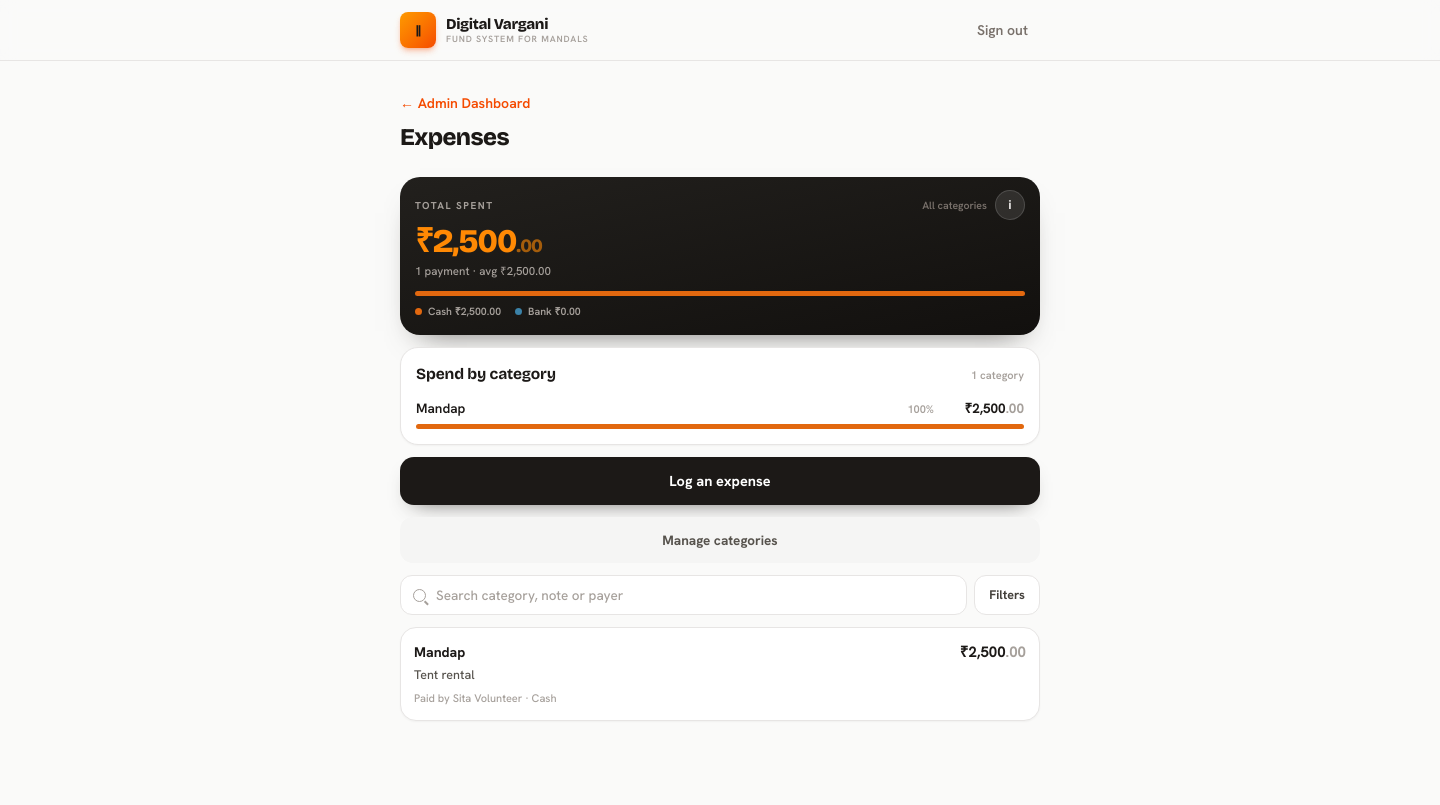
Test case: ExpensesContent — the Expenses tab › keeps the submit inert until a category, an amount and a source of funds are all chosen
The image size is (1440, 805).
Click the button "Log an expense" at coordinates (720, 481), box [400,457,1040,505]
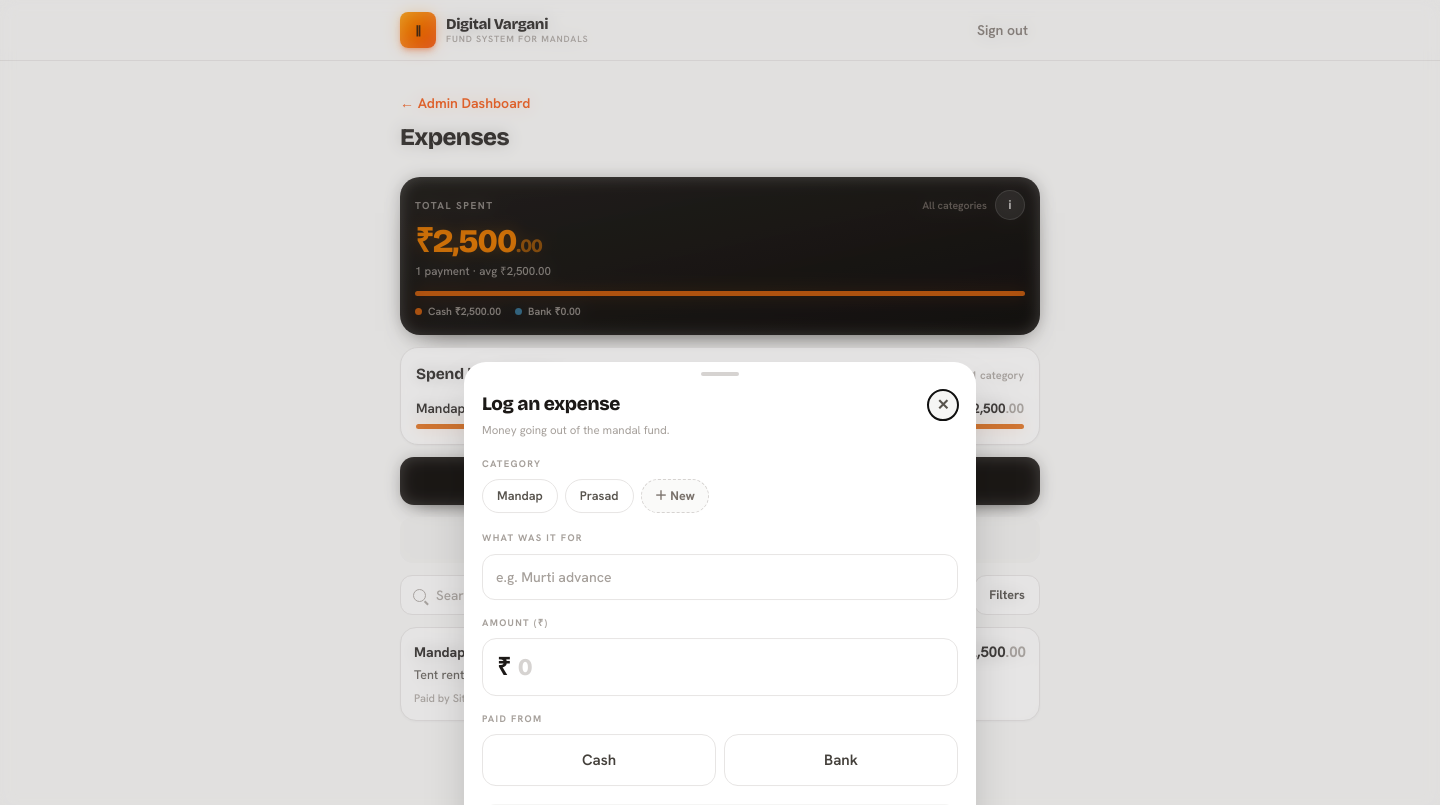
Click the button "Mandap" at coordinates (520, 496), box [482,479,558,513]
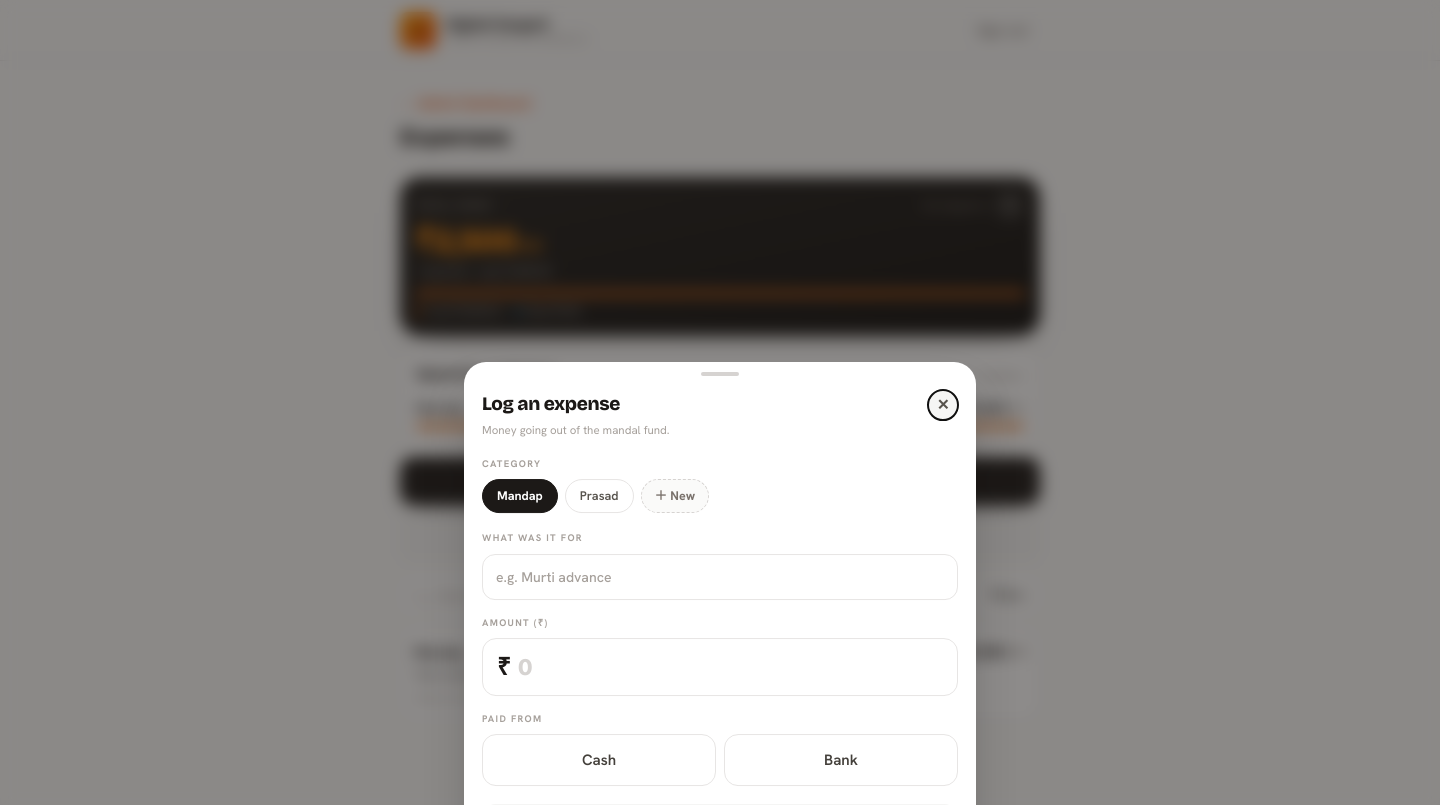
Type "100" into the number field labelled "Amount (₹)" at coordinates (730, 667), box [518,651,943,683]
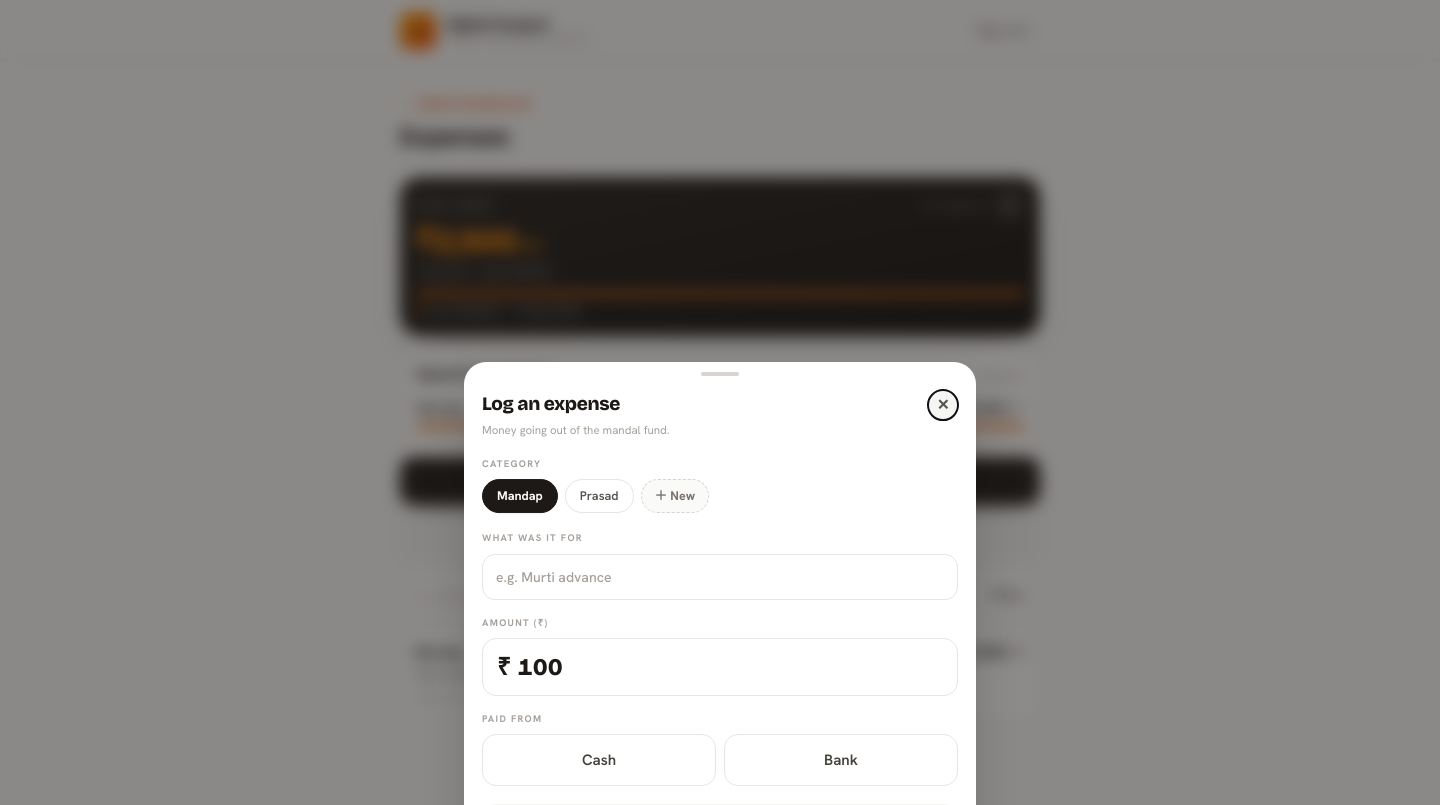
Click the button "Bank" at coordinates (841, 760), box [724,734,958,786]
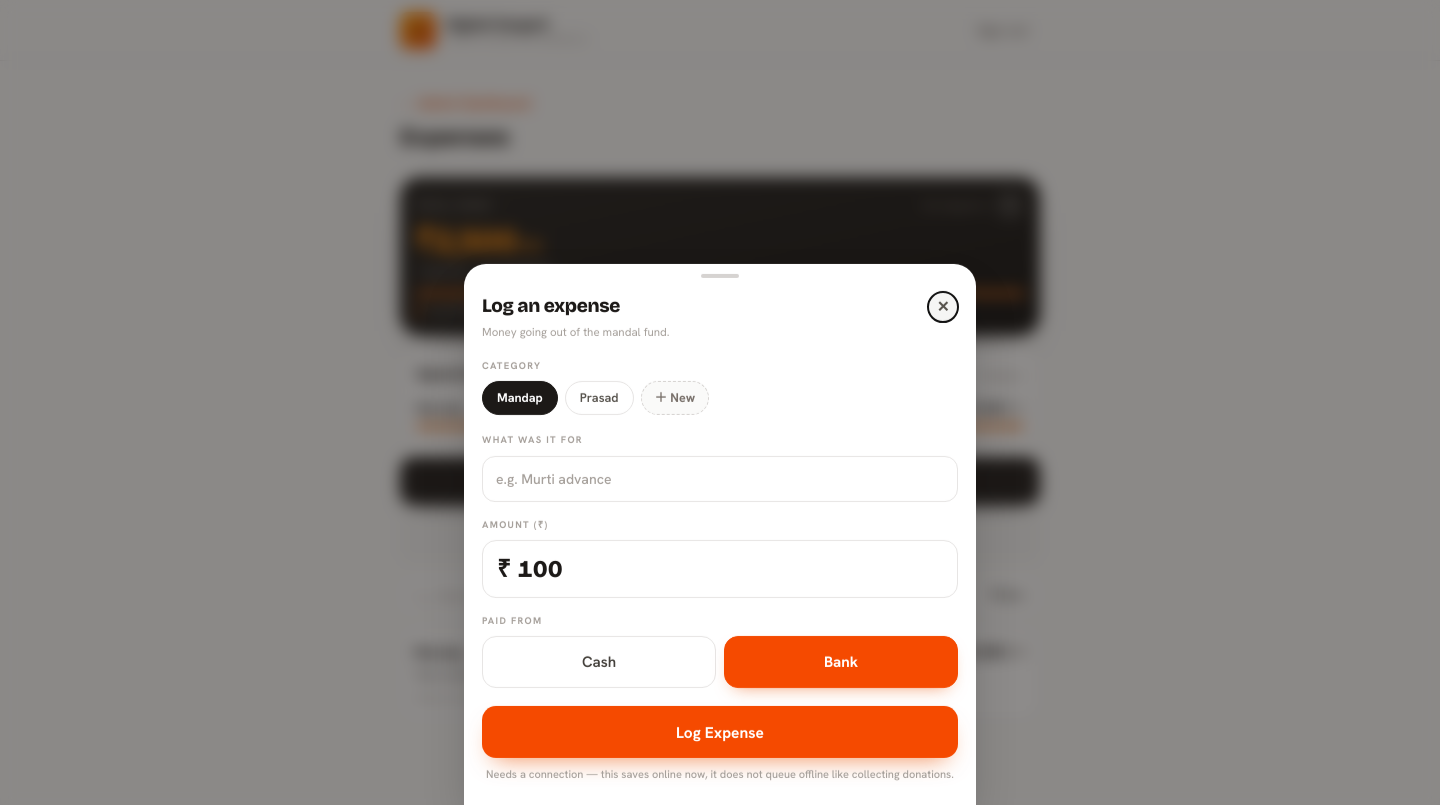
expect the button "Log Expense" is enabled: met, box [482,706,958,758]
